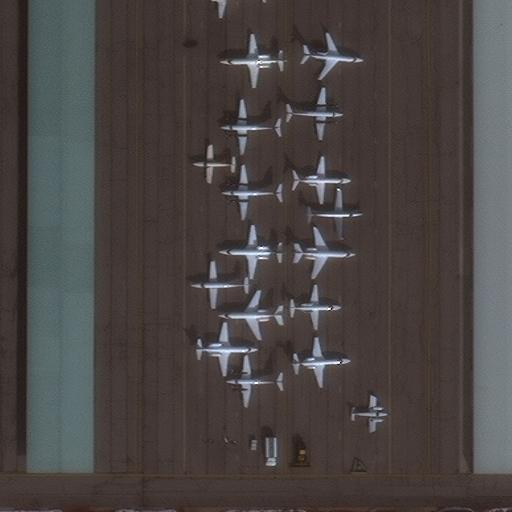Medium Civil Transport: (218, 33, 285, 87), (218, 225, 284, 279), (194, 321, 258, 376), (217, 290, 284, 341), (219, 99, 280, 155), (292, 226, 356, 279), (221, 165, 282, 220), (284, 87, 343, 140), (291, 336, 351, 387), (291, 155, 351, 204), (303, 31, 364, 79), (226, 355, 282, 406), (306, 189, 364, 238)
Small Civil Transport: (190, 261, 250, 308), (288, 284, 341, 330), (192, 145, 236, 182), (349, 396, 389, 431)
